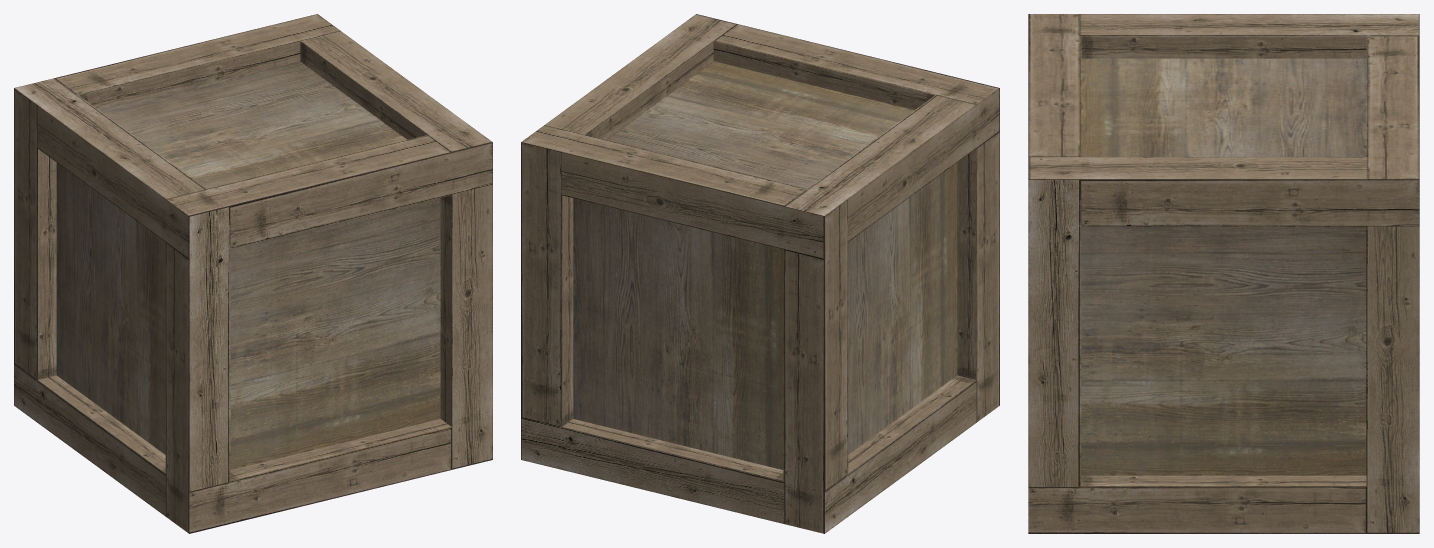
Rendered from Cover_BoxA.glb.
The picture shows the model from 3 angles, left to right: view 1: azimuth 30°, elevation 25°; view 2: azimuth 150°, elevation 25°; view 3: azimuth 270°, elevation 25°; orthographic projection. The views are drawn at different scales.
Visible parts, largest first — view 1: xiutz_box_a; view 2: xiutz_box_a; view 3: xiutz_box_a.
Boxes of the visible parts, x1,y1,x2,y2 form: xiutz_box_a: (14, 14, 492, 533); xiutz_box_a: (521, 14, 999, 533); xiutz_box_a: (1028, 14, 1419, 533).
Bounding box in the file's own units: 1.5 × 1.5 × 1.5.
1 material, 1 textured.
